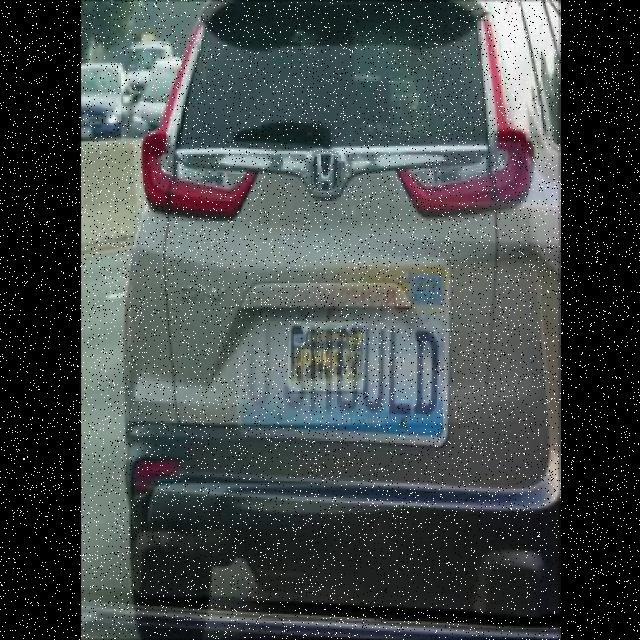licenseplate: (288, 320, 360, 395)
